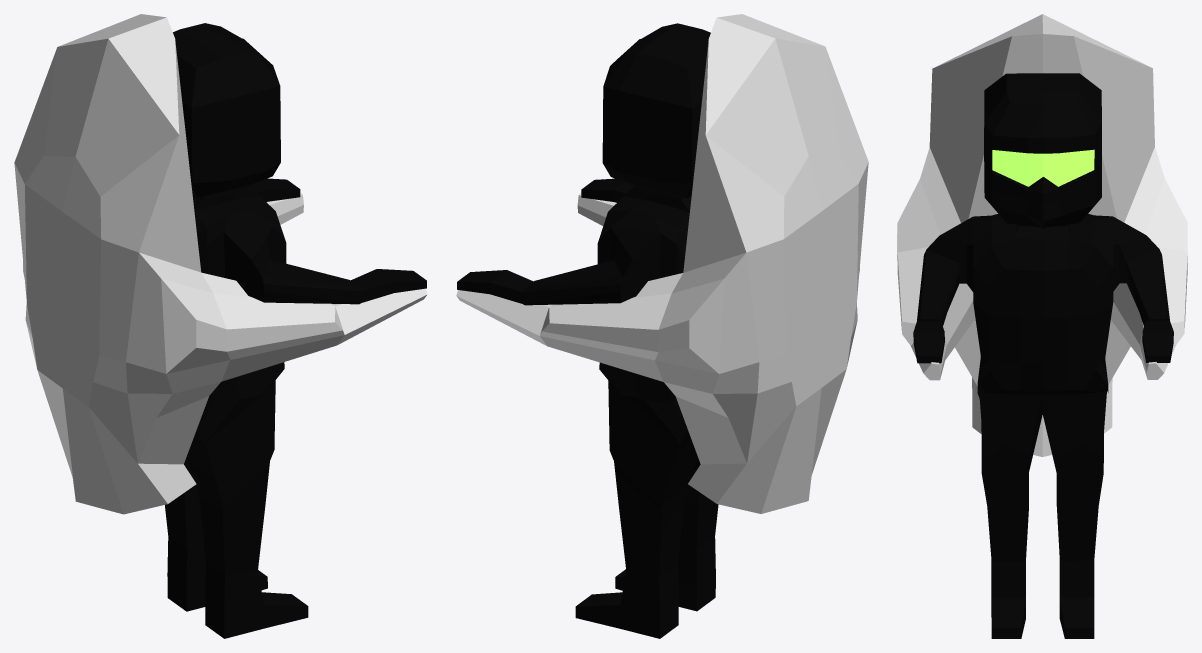
Rendered from jet1j.fbx.
The picture shows the model from 3 angles, left to right: view 1: azimuth 30°, elevation 25°; view 2: azimuth 150°, elevation 25°; view 3: azimuth 270°, elevation 25°; orthographic projection. The views are drawn at different scales.
Parts seen in each view (by area): view 1: Cube.009; view 2: Cube.009; view 3: Cube.009.
Boxes of the visible parts, x1,y1,x2,y2 form: Cube.009: (14,14,427,638); Cube.009: (456,14,868,638); Cube.009: (897,14,1187,638).
Size of the model in its own units: 110 by 213 by 101.
